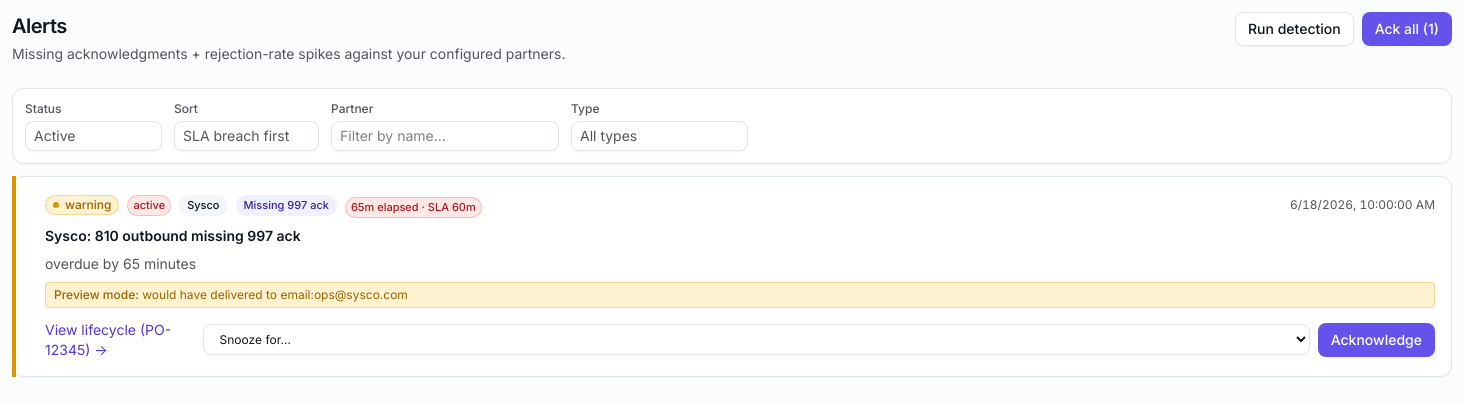
clicking Acknowledge posts and the row updates
Click the button "Acknowledge".
click(1376, 340)  # box [1318,322,1435,356]
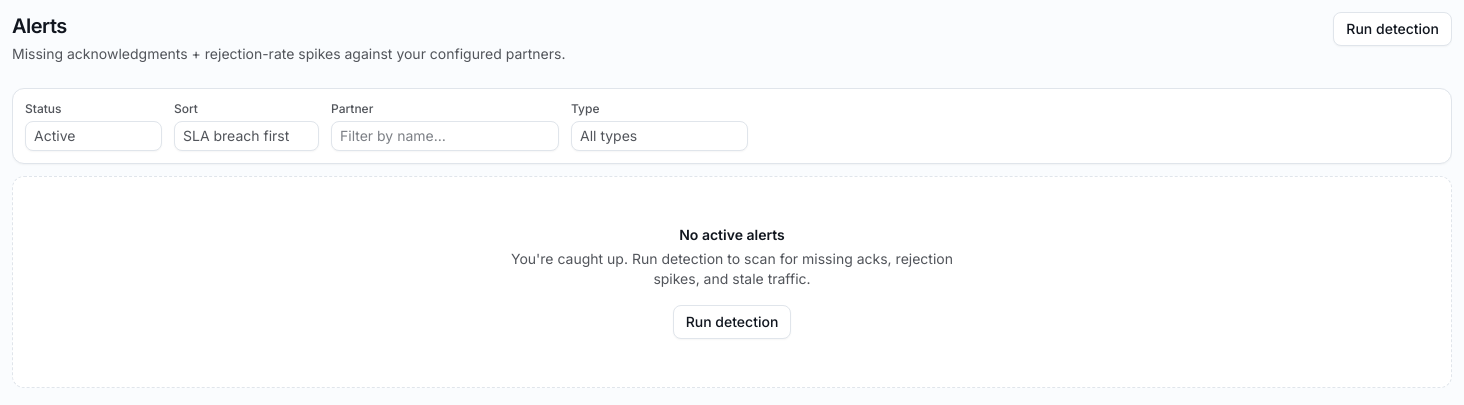
expect the button "Acknowledge" is gone: met
